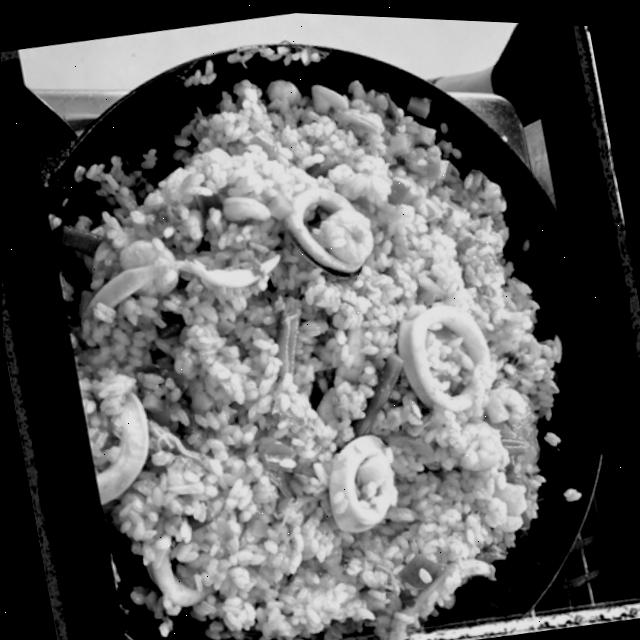熟制海鲜: (0, 4, 369, 613)
